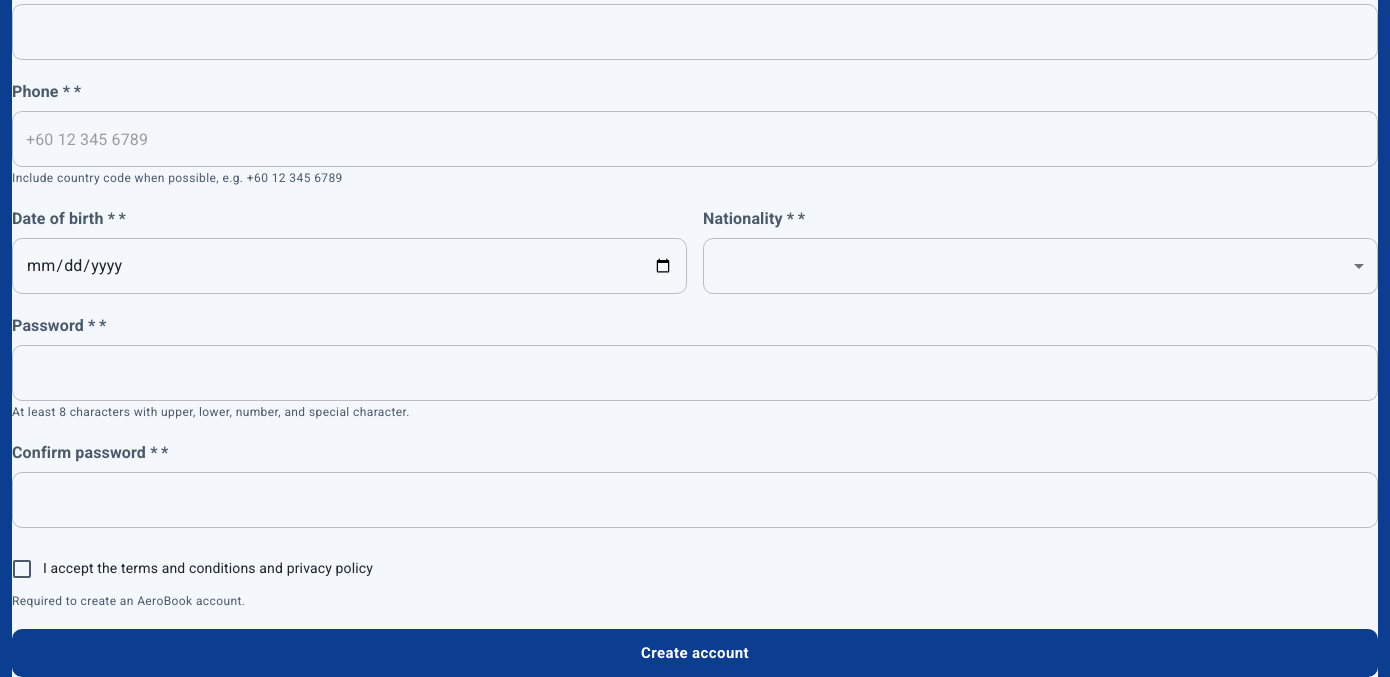
RegisterForm › shows validation messages for required fields
The width and height of the screenshot is (1390, 677).
(page scrolled)
Click the button "Create account": point(695, 653) [12,629,1378,676]
(page scrolled)
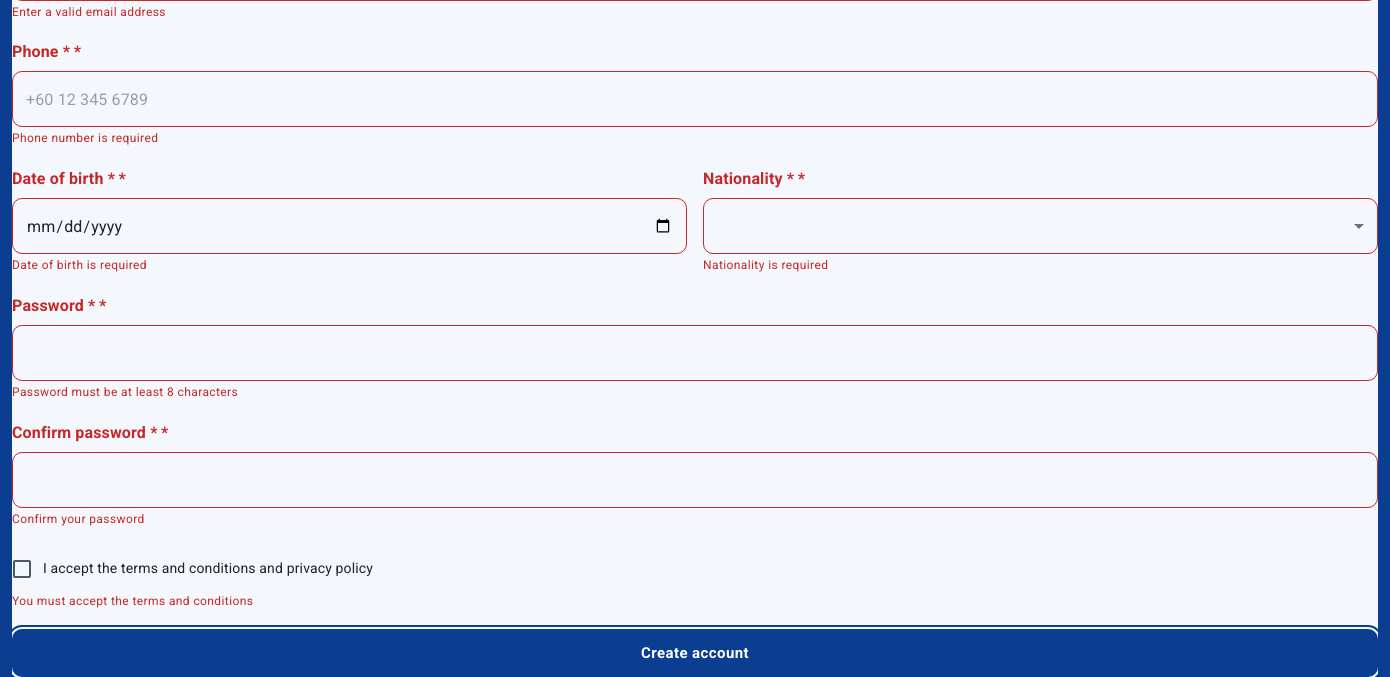
Expected: the text "You must accept the terms and conditions" is shown, [12,594,253,608]
